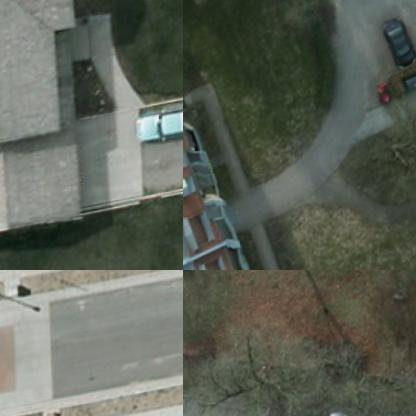car: (137, 99, 182, 152), (384, 16, 415, 71)
